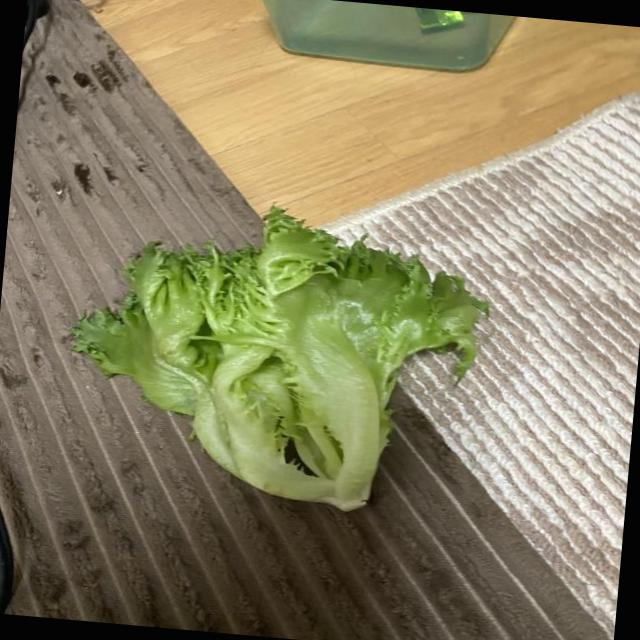Lettuce-Ready-to-Harvest: (73, 212, 486, 509)
